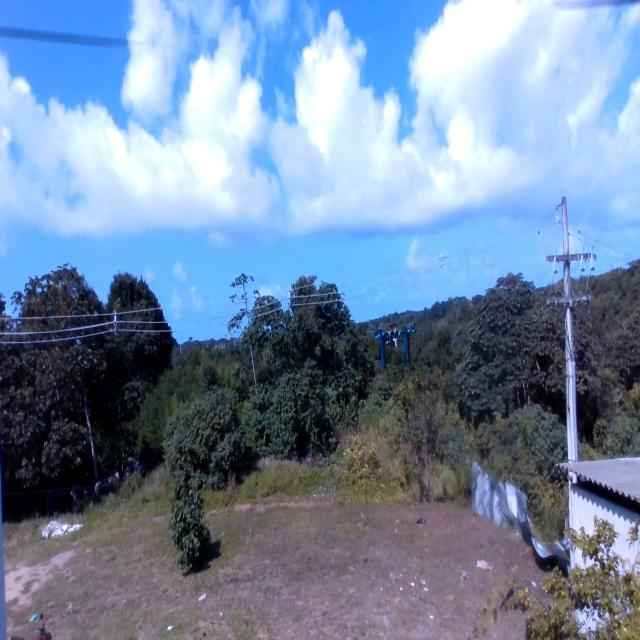-uav-: (364, 307, 428, 377)
